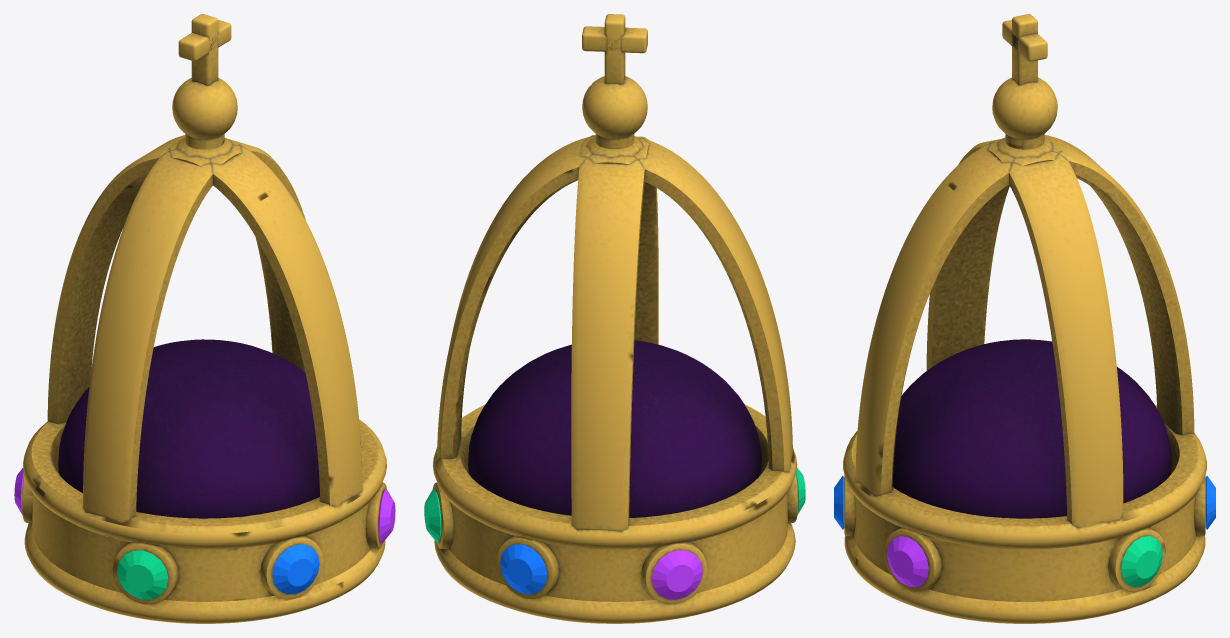
3 views of the same model, side by side, from view 1: azimuth 30°, elevation 25°; view 2: azimuth 150°, elevation 25°; view 3: azimuth 270°, elevation 25° (orthographic).
Parts seen in each view (by area): view 1: Polished_royal_gold, Purple_velvet, glow_Emerald, glow_Sapphire, glow_Amethyst; view 2: Polished_royal_gold, Purple_velvet, glow_Amethyst, glow_Sapphire, glow_Emerald; view 3: Polished_royal_gold, Purple_velvet, glow_Amethyst, glow_Emerald, glow_Sapphire.
Boxes of the visible parts, left/top/right/bottom form: Polished_royal_gold: left=21, top=14, right=387, bottom=623; Purple_velvet: left=58, top=339, right=319, bottom=518; glow_Emerald: left=117, top=550, right=168, bottom=599; glow_Sapphire: left=272, top=544, right=319, bottom=594; glow_Amethyst: left=14, top=468, right=395, bottom=542; Polished_royal_gold: left=432, top=14, right=798, bottom=623; Purple_velvet: left=468, top=340, right=761, bottom=517; glow_Amethyst: left=651, top=550, right=702, bottom=599; glow_Sapphire: left=500, top=544, right=547, bottom=594; glow_Emerald: left=424, top=468, right=805, bottom=542; Polished_royal_gold: left=843, top=14, right=1206, bottom=623; Purple_velvet: left=892, top=339, right=1171, bottom=518; glow_Amethyst: left=887, top=536, right=928, bottom=587; glow_Emerald: left=1121, top=536, right=1162, bottom=587; glow_Sapphire: left=834, top=475, right=1215, bottom=529.
Bounding box in the file's own units: 0.4656 × 0.754 × 0.4884.
5 materials, 2 textured.
